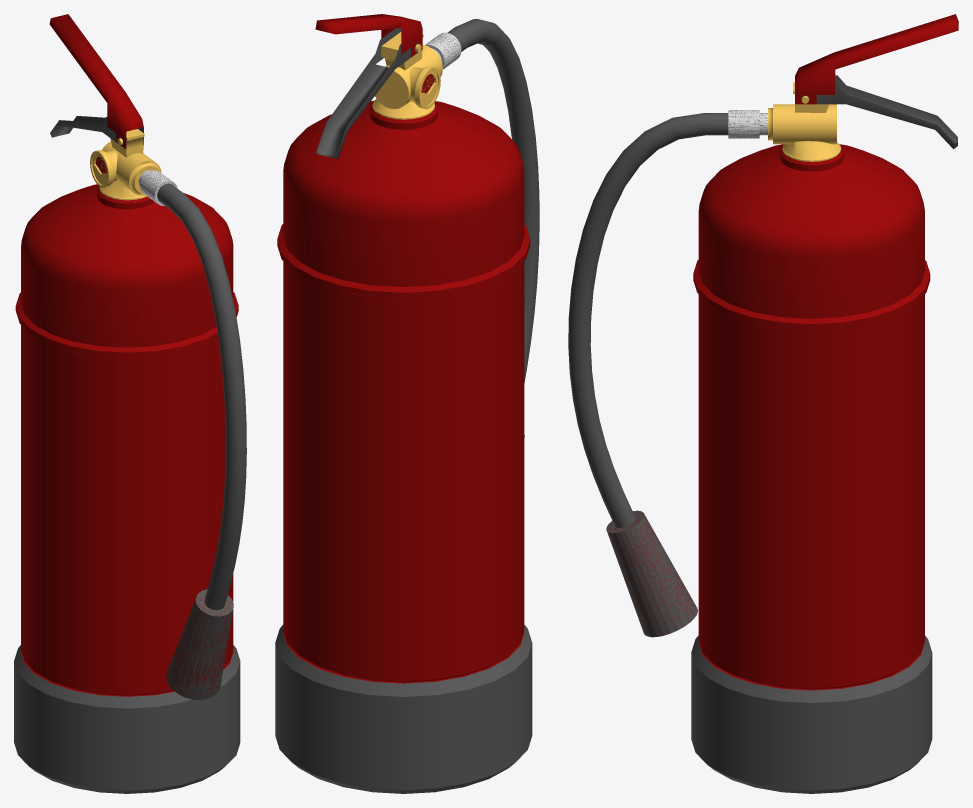
The picture shows the model from 3 angles, left to right: view 1: azimuth 30°, elevation 25°; view 2: azimuth 150°, elevation 25°; view 3: azimuth 270°, elevation 25°; orthographic projection. The views are drawn at different scales.
Parts seen in each view (by area): view 1: Group_282 (×2), group_5 (×3), group_2, group_4, group_3, group_1; view 2: Group_282 (×3), group_5 (×2), group_3, group_4, group_2, group_1; view 3: Group_282 (×2), group_5 (×3), group_2, group_4, group_3.
Boxes of the visible parts, left/top/right/bottom form: Group_282 (×2): left=14, top=184, right=240, bottom=793; group_5 (×3): left=140, top=170, right=246, bottom=699; group_2: left=49, top=14, right=143, bottom=149; group_4: left=101, top=129, right=161, bottom=197; group_3: left=50, top=116, right=143, bottom=145; group_1: left=90, top=150, right=117, bottom=187; Group_282 (×3): left=275, top=100, right=532, bottom=793; group_5 (×2): left=425, top=19, right=539, bottom=382; group_3: left=316, top=28, right=418, bottom=158; group_4: left=373, top=32, right=442, bottom=116; group_2: left=315, top=14, right=422, bottom=57; group_1: left=409, top=66, right=440, bottom=109; Group_282 (×2): left=691, top=144, right=932, bottom=793; group_5 (×3): left=568, top=110, right=759, bottom=637; group_2: left=795, top=14, right=958, bottom=104; group_4: left=773, top=82, right=839, bottom=158; group_3: left=801, top=75, right=957, bottom=149.
Bounding box in the file's own units: 5.91 × 9.57 × 19.69.
